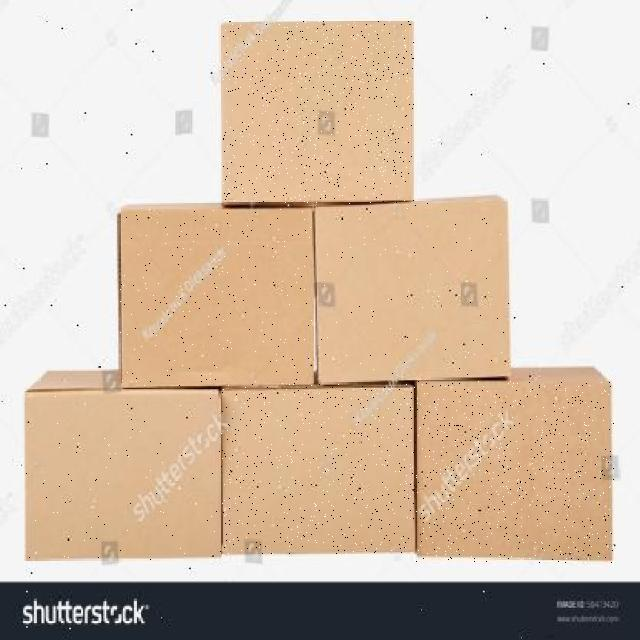BoxFace: (414, 382, 614, 564), (316, 204, 510, 386), (223, 22, 414, 204), (119, 208, 312, 386), (24, 388, 222, 560), (219, 383, 416, 554)
